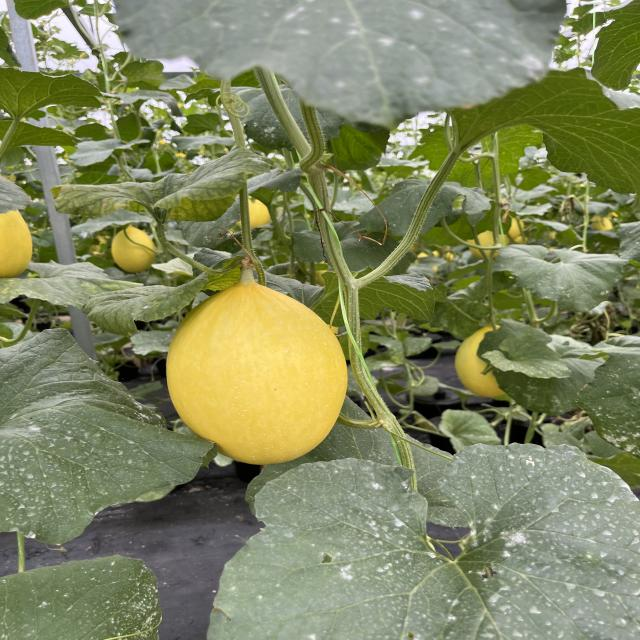alternaria leaf blight: (54, 178, 243, 223)
downy mildew: (493, 240, 626, 318), (0, 264, 148, 307)
healthy: (460, 66, 640, 197), (0, 65, 102, 123), (582, 0, 640, 92)
powdery mildew: (216, 443, 640, 640), (0, 554, 161, 640), (477, 322, 598, 418), (89, 272, 230, 337), (577, 351, 640, 455)
